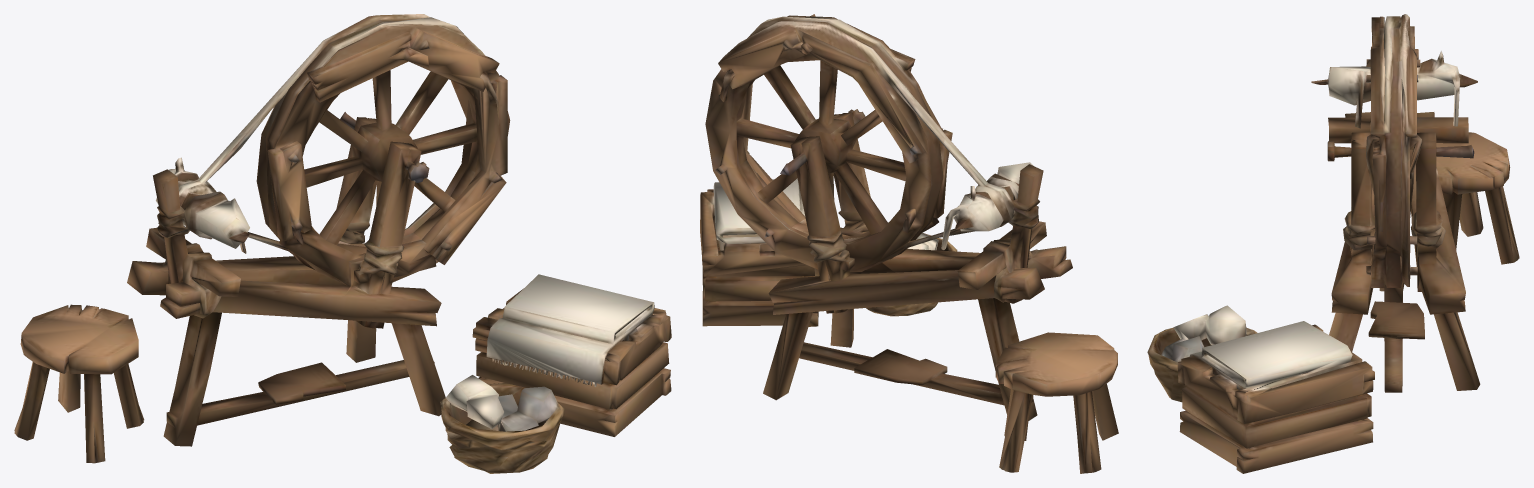
File: zhibu-1.glb
The picture shows the model from 3 angles, left to right: view 1: azimuth 30°, elevation 25°; view 2: azimuth 150°, elevation 25°; view 3: azimuth 270°, elevation 25°; orthographic projection. The views are drawn at different scales.
Visible parts, largest first — view 1: node_0; view 2: node_0; view 3: node_0.
Boxes of the visible parts, box(x1,y1,x2,y2) form: node_0: box(14, 14, 671, 473); node_0: box(700, 14, 1118, 473); node_0: box(1147, 14, 1519, 473).
Size of the model in its own units: 0.9399 by 0.626 by 0.5886.
1 material, 1 textured.
